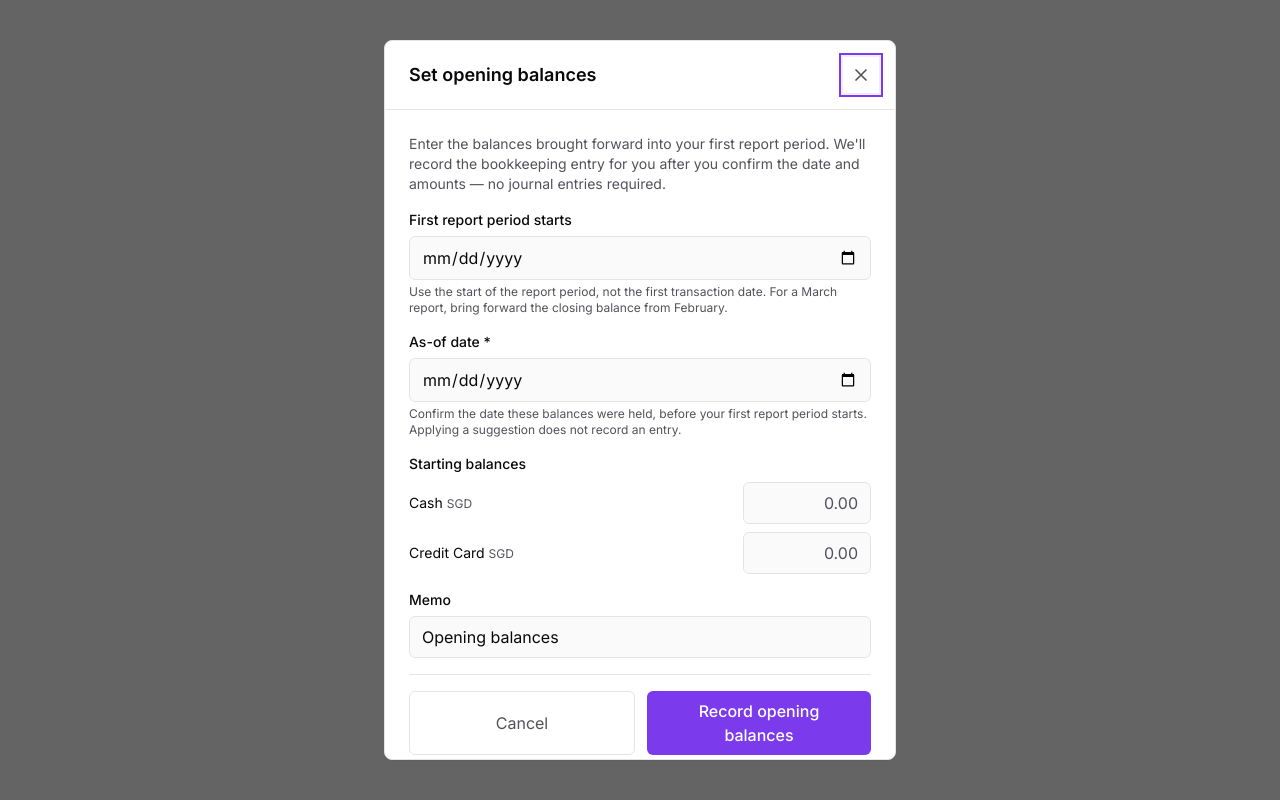
Test case: OpeningBalanceModal (#949 / AC2.15.8) › AC2.15.8 surfaces a backend error instead of closing
Type "2026-01-01" into the date field labelled "As-of date *" at (640, 380), box [409,358,871,402]
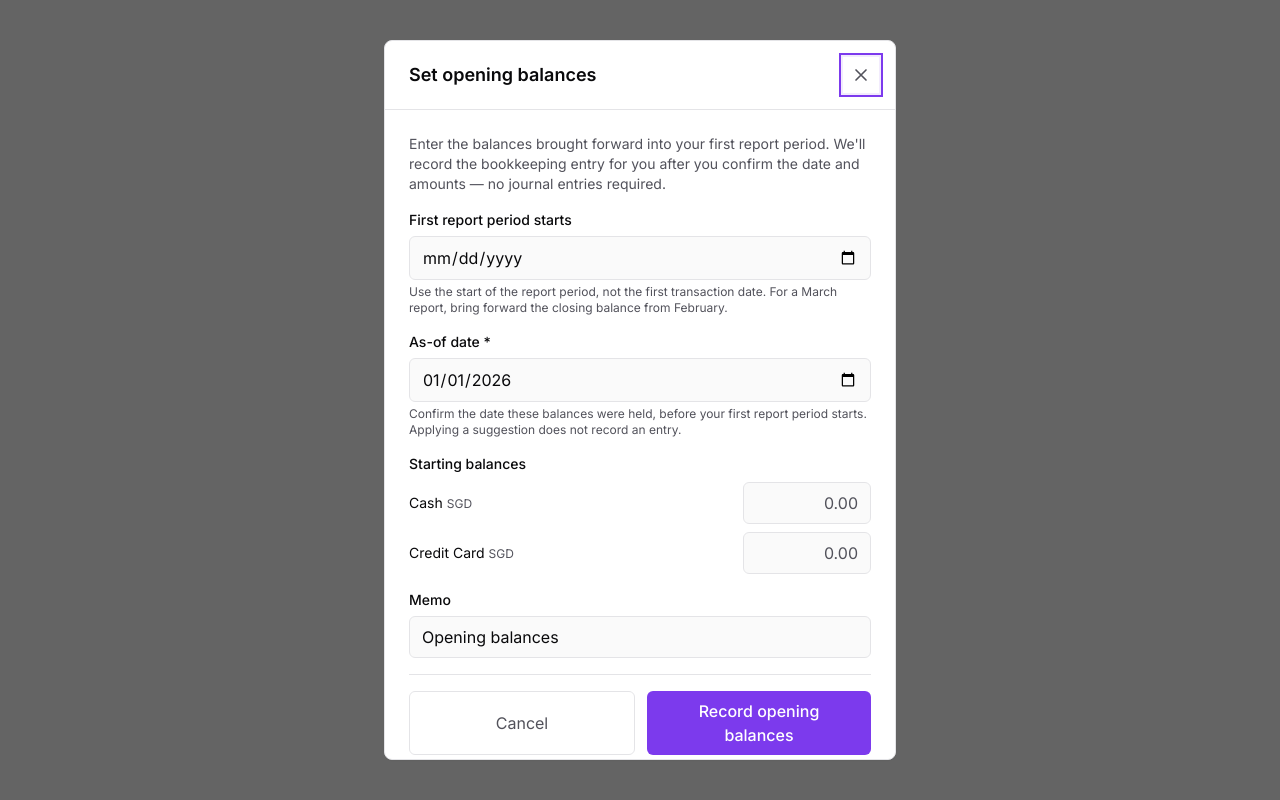
Type "100" into the field named "Opening balance for Cash" at (807, 503), box [743,482,871,524]
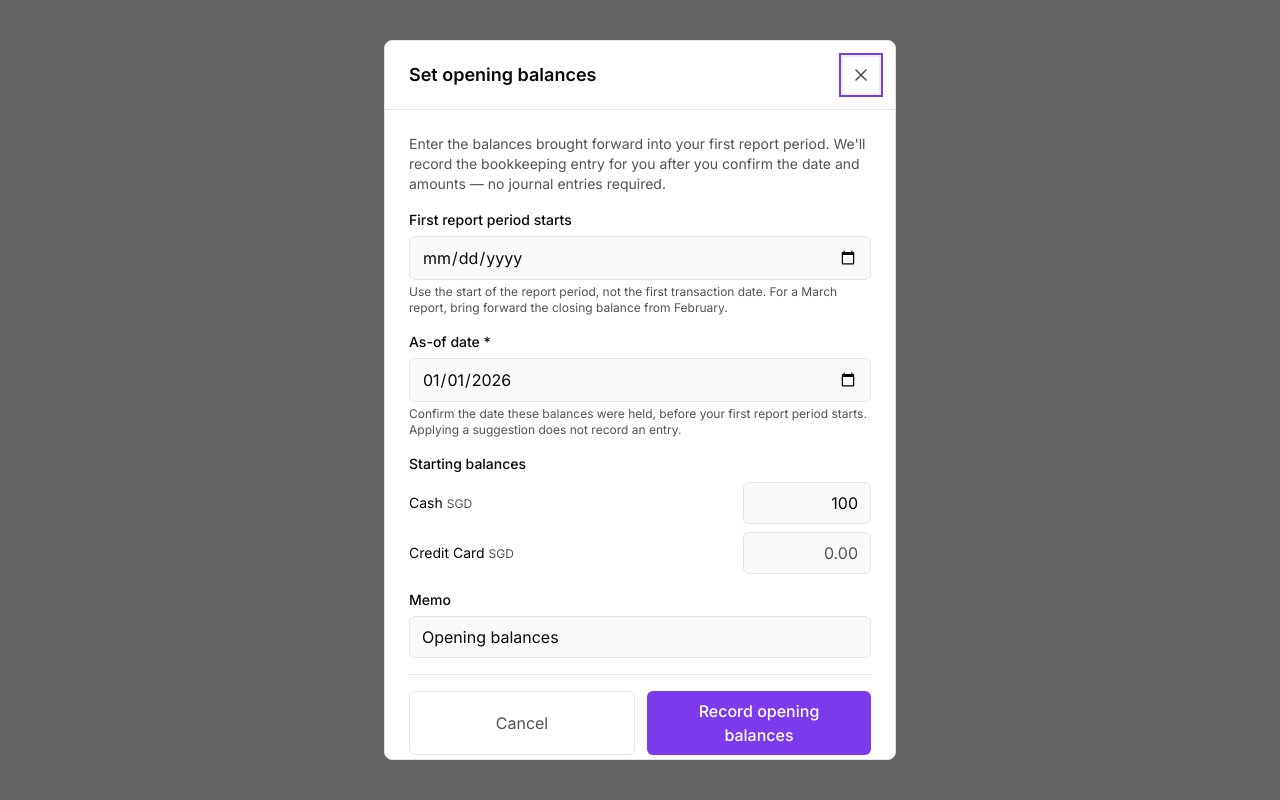
Click the button "Record opening balances" at (759, 723), box [647,691,871,755]
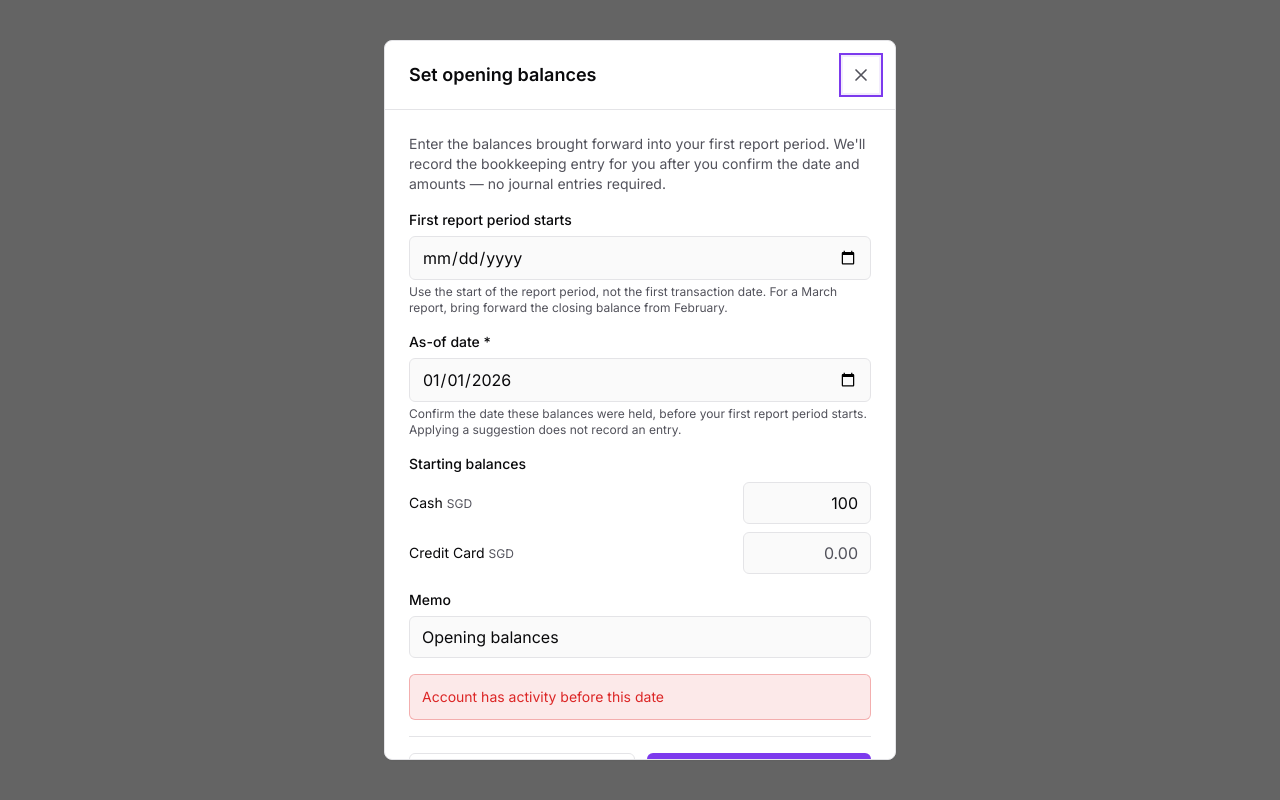
Expected: the text "Account has activity before this date" is shown, [409,674,871,720]
